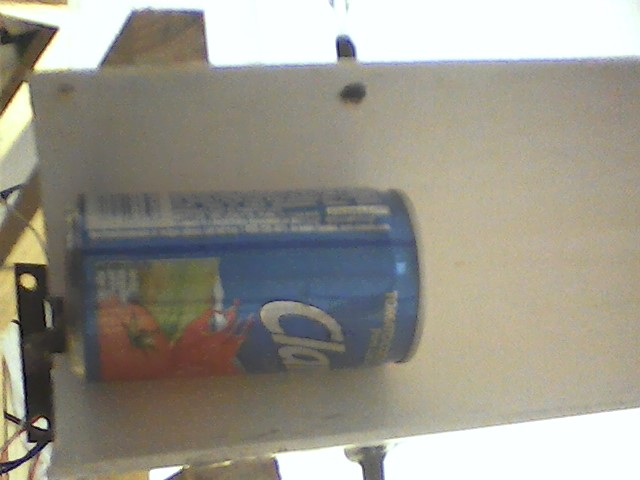lata: (61, 183, 437, 383)
